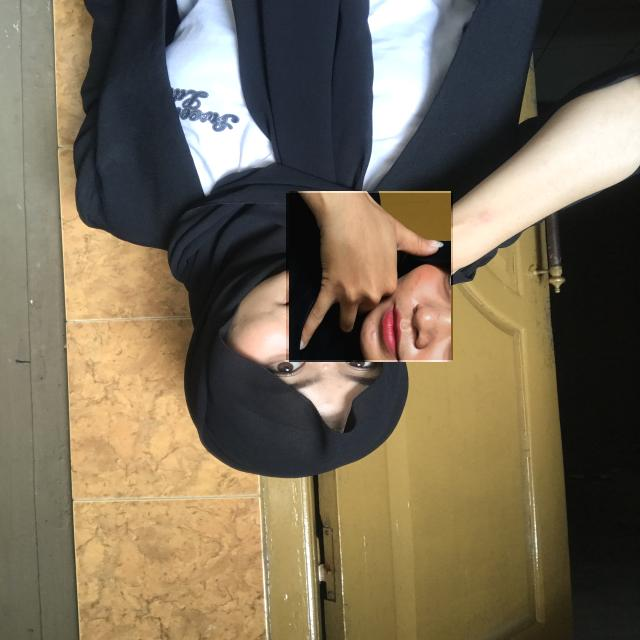telpon: (286, 193, 453, 360)
